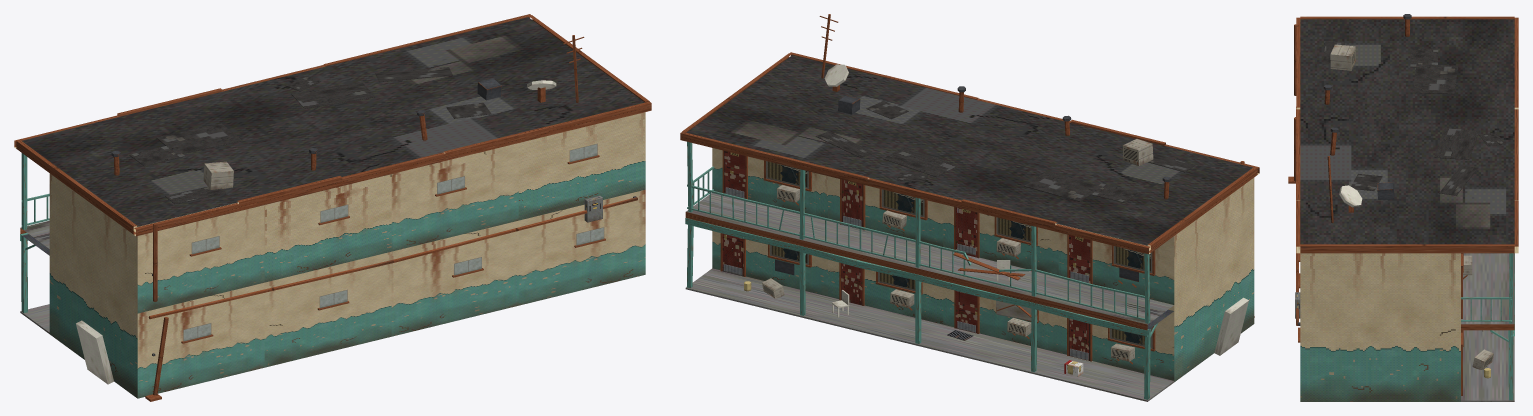
Rendered from MotelBlock.fbx.
3 renders of one model, left to right at view 1: azimuth 30°, elevation 25°; view 2: azimuth 150°, elevation 25°; view 3: azimuth 270°, elevation 25°, orthographic. The views are drawn at different scales.
Parts seen in each view (by area): view 1: MotelBlock; view 2: MotelBlock; view 3: MotelBlock.
Boxes of the visible parts, box(x1,y1,x2,y2) form: MotelBlock: box(14, 14, 651, 401); MotelBlock: box(680, 14, 1259, 401); MotelBlock: box(1288, 14, 1518, 401).
Size of the model in its own units: 20.85 by 9.15 by 8.6.
